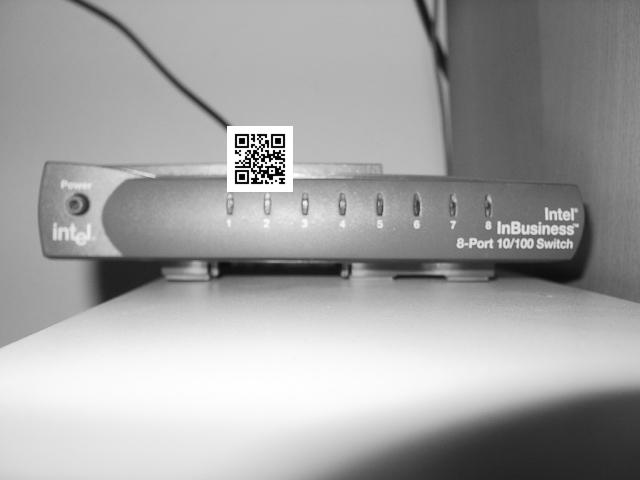qr_code: (227, 126, 292, 191)
